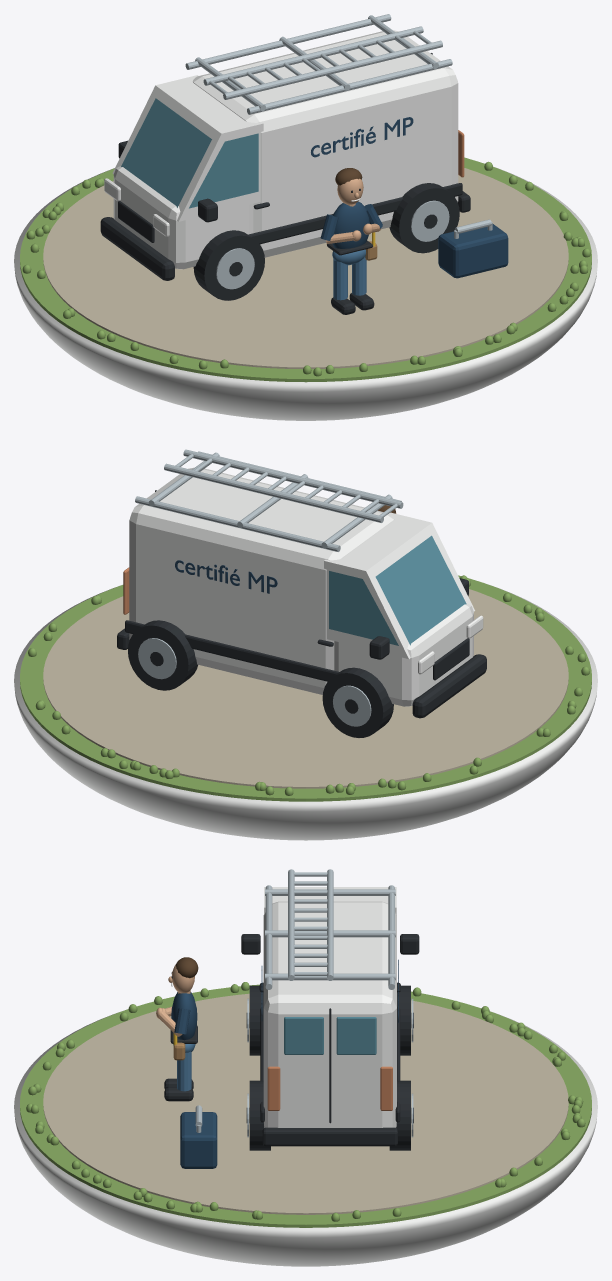
The model's file is artisan-certifie-mp.glb.
The picture shows the model from 3 angles, top to bottom: view 1: azimuth 30°, elevation 25°; view 2: azimuth 150°, elevation 25°; view 3: azimuth 270°, elevation 25°; orthographic projection.
Parts seen in each view (by area): view 1: Sol gravillonne, Fourgon carrosserie, Coupole_identique_R3_P1.15, Plateau circulaire, Cabine inclinee, Pare brise, Capot, Vitre cabine, Caisse outils, Pneu, Pneu.002, Pare choc avant (+11 smaller); view 2: Sol gravillonne, Fourgon carrosserie, Coupole_identique_R3_P1.15, Plateau circulaire, Cabine inclinee, Pare brise, Capot, Vitre cabine.001, Pneu.001, Pneu.003, Baguette laterale.001, Pare choc avant (+7 smaller); view 3: Sol gravillonne, Fourgon carrosserie, Coupole_identique_R3_P1.15, Plateau circulaire, Pare choc arriere, Caisse outils, Vitre arriere.001, Vitre arriere, Pneu.002, Cabine inclinee, Pneu.003, Pneu (+11 smaller).
Boxes of the visible parts, x1,y1,x2,y2 form: Sol gravillonne: [43, 168, 568, 369]; Fourgon carrosserie: [192, 30, 458, 257]; Coupole_identique_R3_P1.15: [14, 168, 597, 420]; Plateau circulaire: [20, 157, 591, 382]; Cabine inclinee: [112, 75, 263, 221]; Pare brise: [121, 98, 211, 207]; Capot: [113, 166, 253, 269]; Vitre cabine: [189, 133, 258, 208]; Caisse outils: [438, 224, 508, 278]; Pneu: [193, 230, 264, 300]; Pneu.002: [389, 183, 459, 253]; Pare choc avant: [100, 217, 174, 280]; Sol gravillonne: [43, 589, 568, 788]; Fourgon carrosserie: [129, 467, 394, 694]; Coupole_identique_R3_P1.15: [14, 587, 597, 840]; Plateau circulaire: [20, 575, 591, 801]; Cabine inclinee: [324, 512, 474, 658]; Pare brise: [375, 535, 466, 645]; Capot: [334, 603, 473, 706]; Vitre cabine.001: [329, 571, 398, 645]; Pneu.001: [322, 667, 393, 737]; Pneu.003: [128, 620, 197, 690]; Baguette laterale.001: [125, 620, 339, 681]; Pare choc avant: [412, 654, 486, 718]; Sol gravillonne: [43, 993, 568, 1214]; Fourgon carrosserie: [263, 901, 396, 1127]; Coupole_identique_R3_P1.15: [14, 1013, 597, 1266]; Plateau circulaire: [20, 984, 591, 1227]; Pare choc arriere: [262, 1127, 397, 1146]; Caisse outils: [180, 1112, 217, 1168]; Vitre arriere.001: [336, 1017, 376, 1054]; Vitre arriere: [284, 1017, 323, 1054]; Pneu.002: [249, 1080, 270, 1150]; Cabine inclinee: [264, 887, 396, 914]; Pneu.003: [389, 1080, 410, 1150]; Pneu: [249, 985, 263, 1055].
Size of the model in its own units: 6 by 3.36 by 6.
